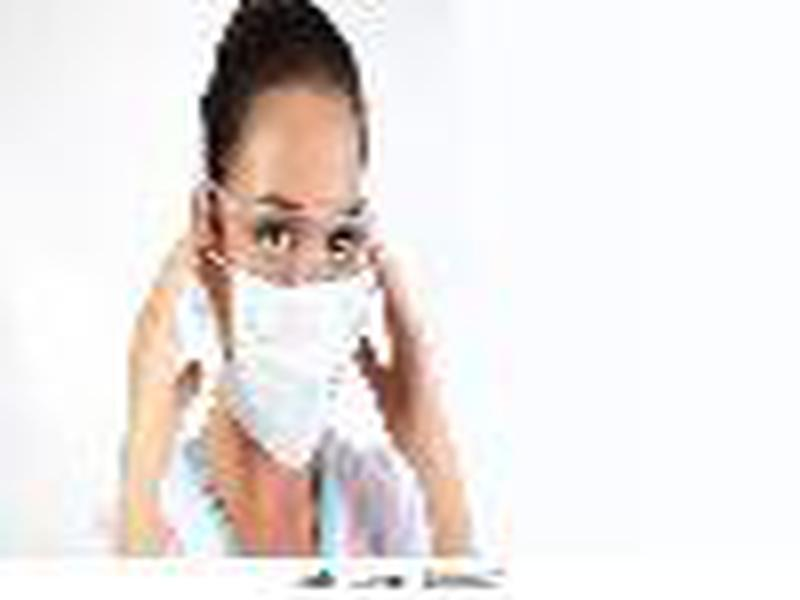with_mask: (184, 1, 377, 475)
